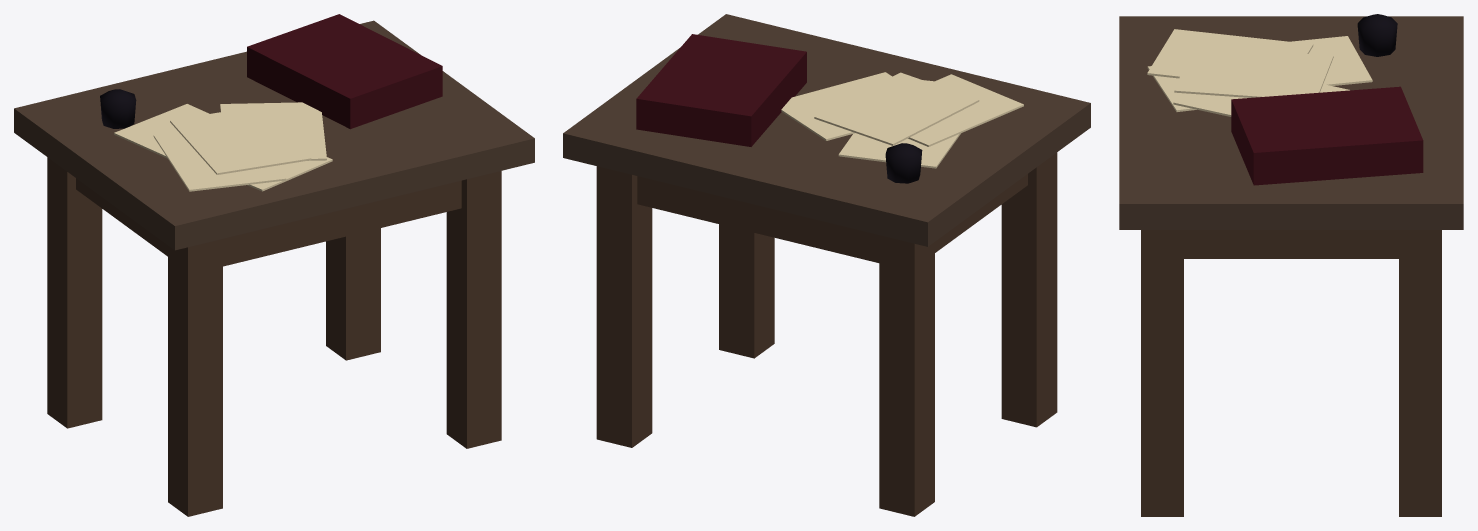
The model's file is receipt_table.glb.
3 views of the same model, side by side, from view 1: azimuth 30°, elevation 25°; view 2: azimuth 150°, elevation 25°; view 3: azimuth 270°, elevation 25° (orthographic). The views are drawn at different scales.
Visible parts, largest first — view 1: receipt_table; view 2: receipt_table; view 3: receipt_table.
Part boxes in pixels (bbox=[...]): receipt_table: bbox=[14, 14, 534, 516]; receipt_table: bbox=[563, 14, 1090, 516]; receipt_table: bbox=[1119, 14, 1463, 516].
Bounding box in the file's own units: 0.62 × 0.555 × 0.48.
